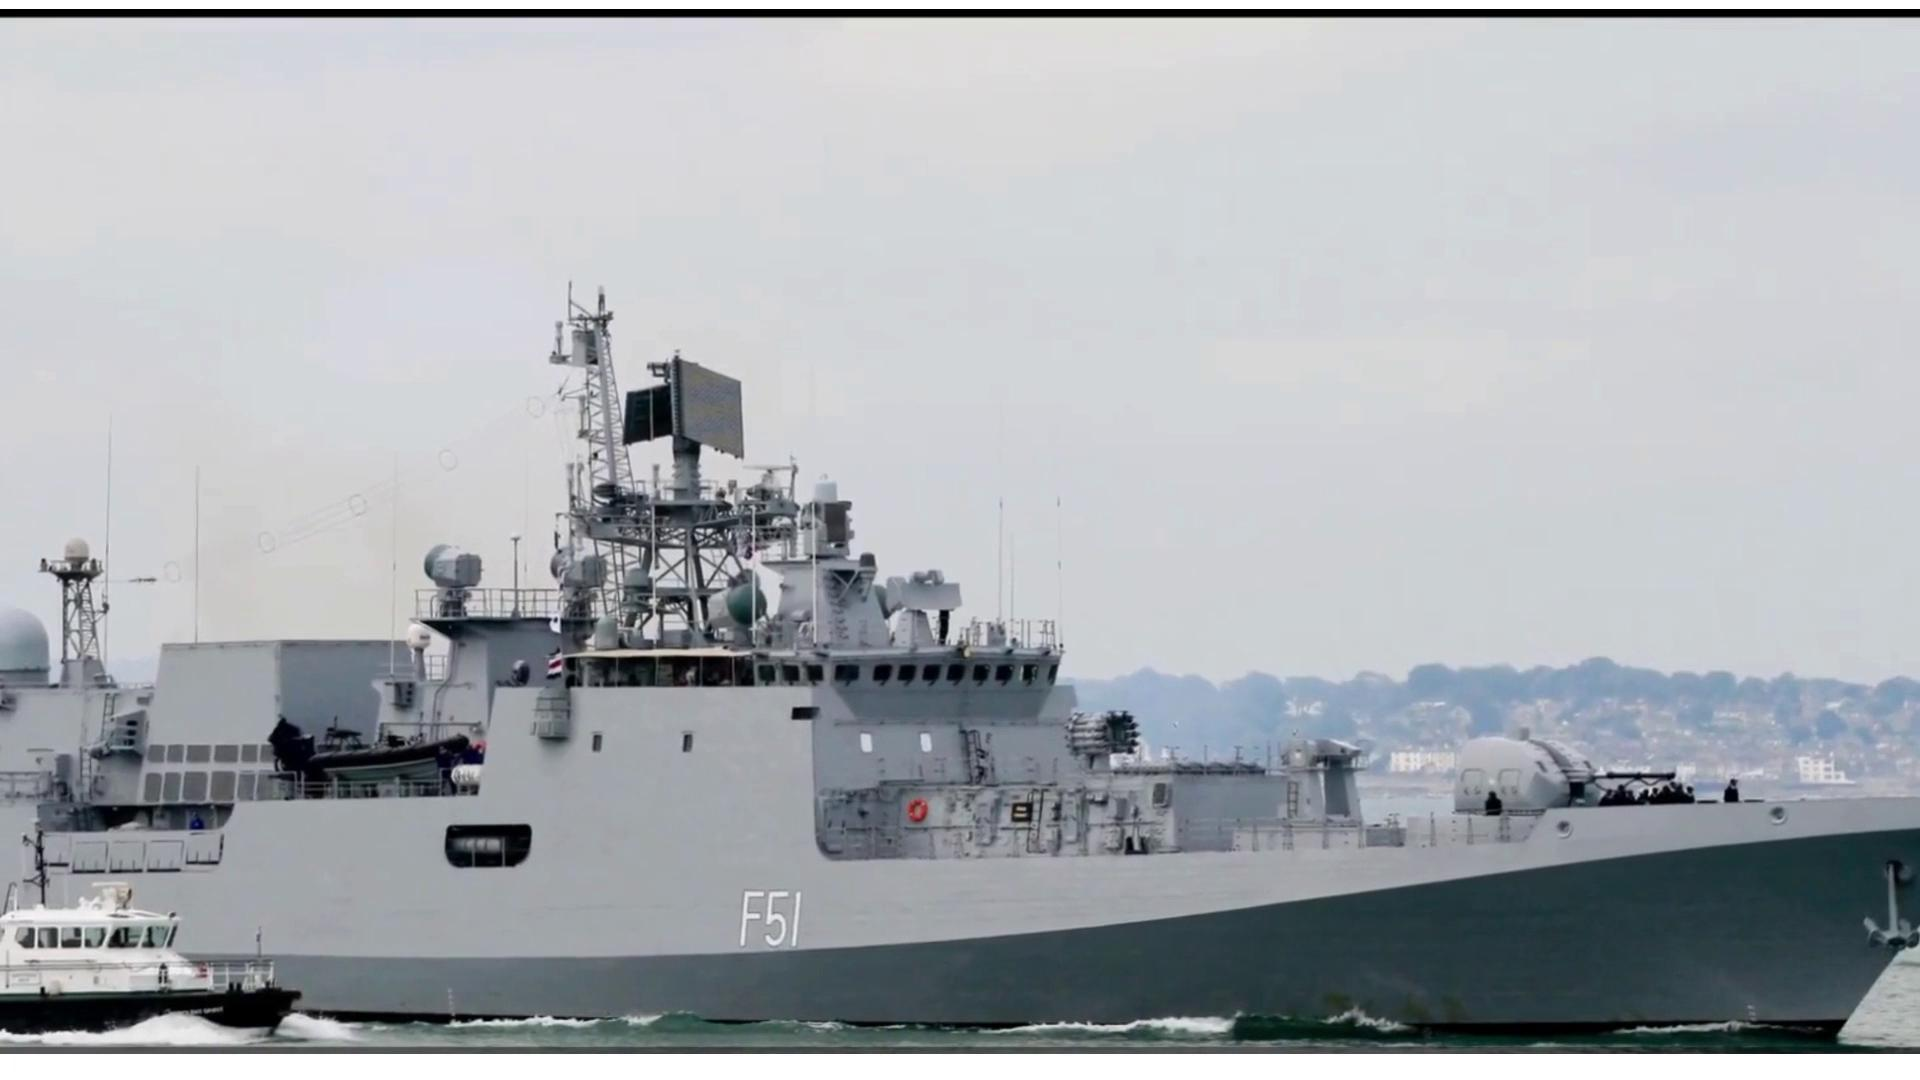OCR: (731, 876, 832, 965)
